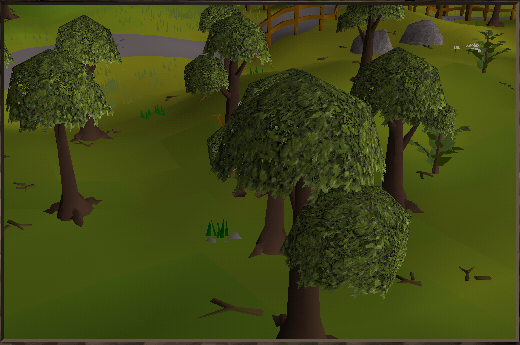Tree: (226, 76, 381, 335), (354, 54, 452, 228), (9, 52, 107, 221), (186, 5, 262, 143), (333, 3, 403, 79)
